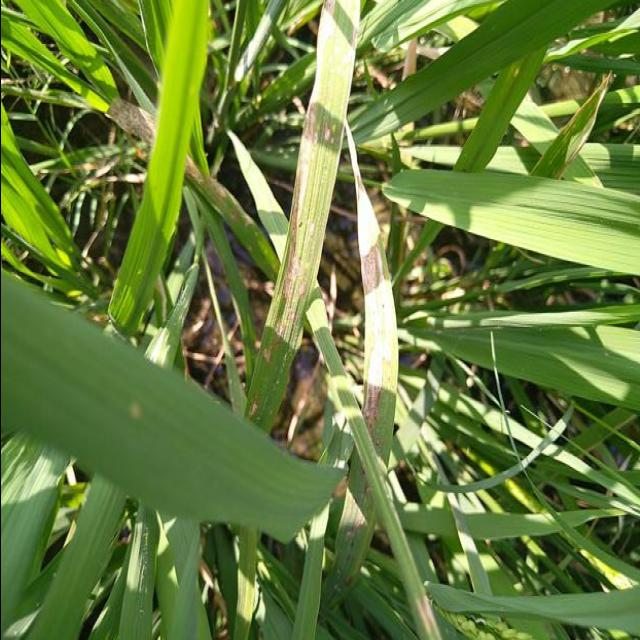Leaf Streak: (244, 0, 360, 433), (344, 122, 397, 467), (183, 157, 279, 282), (318, 448, 374, 625), (531, 74, 613, 179), (104, 98, 154, 151)
